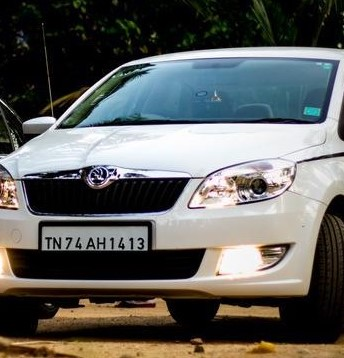TN74AH1413: (41, 224, 149, 251)
